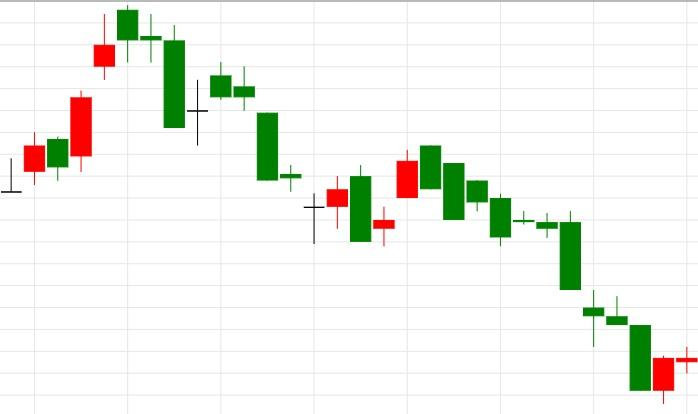shooting_star_fall: (24, 13, 115, 184)
